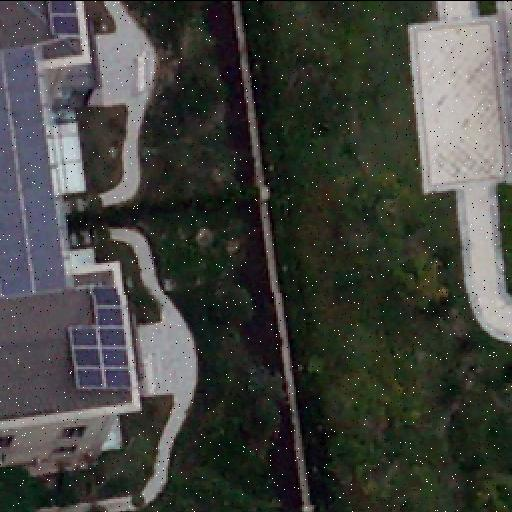solar-panel: (66, 280, 134, 394), (44, 0, 97, 42)
